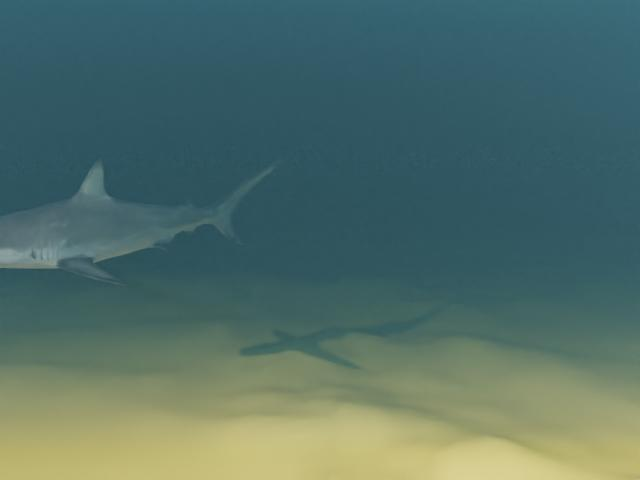Carribean Shark.001: (0, 158, 287, 285)
